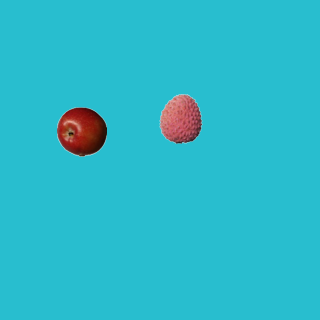Apple Braeburn: (56, 106, 106, 156)
Lychee: (155, 93, 205, 143)
